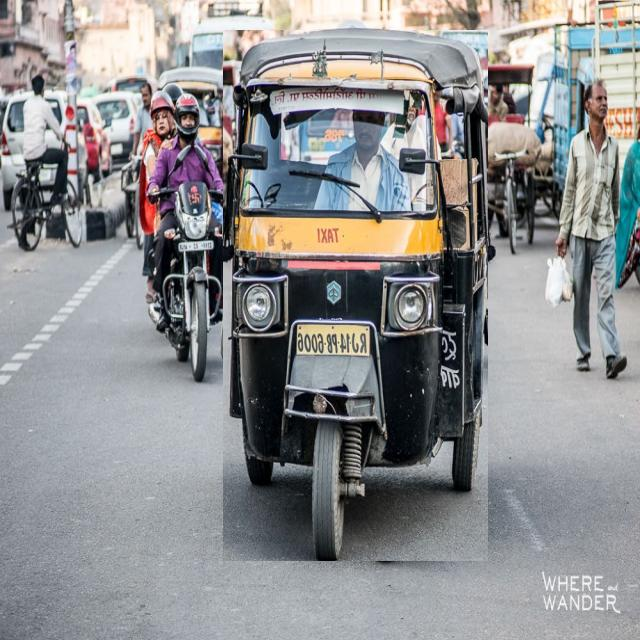autorickshaw: (224, 30, 488, 561)
bicycle: (11, 75, 82, 250)
motorcycle: (146, 94, 224, 379)
